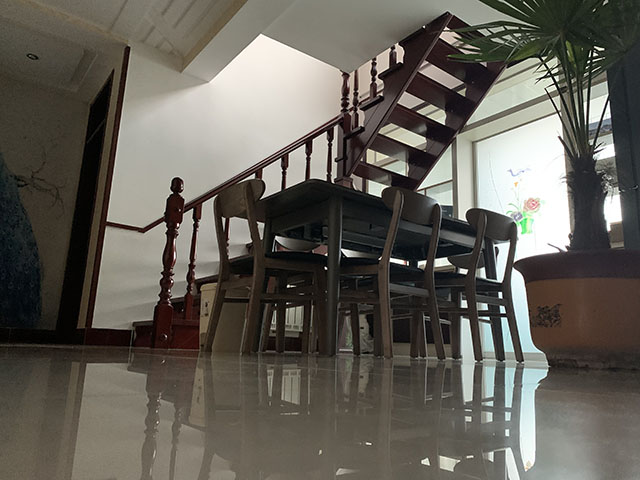stool: (200, 178, 327, 358), (336, 185, 448, 363), (410, 207, 526, 365)
table: (235, 179, 507, 363)
trashcan: (198, 283, 252, 353)
